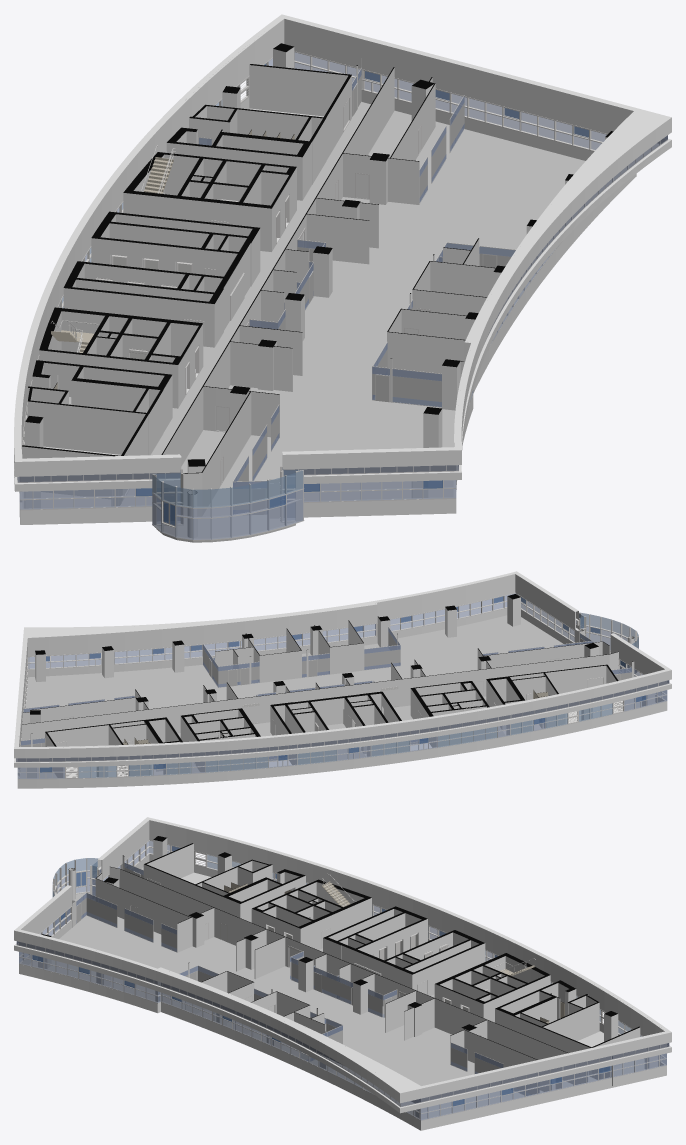
3 views of the same model, one above another, from view 1: azimuth 30°, elevation 25°; view 2: azimuth 150°, elevation 25°; view 3: azimuth 270°, elevation 25° (orthographic). The views are drawn at different scales.
Visible parts, largest first — view 1: A1-9F-Wall, A1-9F-Floor, A1-9F-In Dry Wall, A1-9F-Dry Wall, A1-9F-Glass1, A1-9F-Column, A1-9F-Frame, A1-9F-Glass Wall, A1-9F-Door, A1-9F-Glass2, A1-9F-Glass5, A1-9F-Elevator (+2 smaller); view 2: A1-9F-Wall, A1-9F-In Dry Wall, A1-9F-Floor, A1-9F-Dry Wall, A1-9F-Frame, A1-9F-Glass1, A1-9F-Glass2, A1-9F-Column, A1-9F-Glass Wall, A1-9F-Glass5, A1-9F-Door, A1-9F-Glass3 (+1 smaller); view 3: A1-9F-Wall, A1-9F-In Dry Wall, A1-9F-Dry Wall, A1-9F-Floor, A1-9F-Glass1, A1-9F-Glass Wall, A1-9F-Frame, A1-9F-Column, A1-9F-Glass5, A1-9F-Door, A1-9F-Glass2, A1-9F-Glass3 (+2 smaller).
Part boxes in pixels (x1,y1,x2,y2): A1-9F-Wall: (21, 58, 495, 516); A1-9F-Floor: (22, 102, 585, 542); A1-9F-In Dry Wall: (19, 17, 636, 524); A1-9F-Dry Wall: (14, 14, 671, 491); A1-9F-Glass1: (19, 52, 606, 539); A1-9F-Column: (24, 43, 613, 537); A1-9F-Frame: (17, 51, 667, 540); A1-9F-Glass Wall: (113, 68, 515, 518); A1-9F-Door: (118, 83, 497, 514); A1-9F-Glass2: (62, 100, 303, 507); A1-9F-Glass5: (17, 135, 667, 482); A1-9F-Elevator: (95, 195, 289, 394); A1-9F-Wall: (20, 616, 634, 777); A1-9F-In Dry Wall: (17, 573, 667, 788); A1-9F-Floor: (20, 615, 641, 777); A1-9F-Dry Wall: (14, 571, 671, 767); A1-9F-Frame: (16, 592, 669, 779); A1-9F-Glass1: (17, 593, 667, 778); A1-9F-Glass2: (78, 612, 638, 778); A1-9F-Column: (27, 594, 654, 777); A1-9F-Glass Wall: (21, 627, 631, 746); A1-9F-Glass5: (16, 621, 669, 761); A1-9F-Door: (32, 638, 620, 764); A1-9F-Glass3: (40, 596, 646, 772); A1-9F-Wall: (95, 843, 640, 1091); A1-9F-In Dry Wall: (19, 819, 666, 1130); A1-9F-Dry Wall: (14, 817, 671, 1113); A1-9F-Floor: (29, 867, 644, 1117); A1-9F-Glass1: (19, 841, 666, 1120); A1-9F-Glass Wall: (68, 862, 609, 1095); A1-9F-Frame: (17, 840, 669, 1120); A1-9F-Column: (38, 836, 657, 1119); A1-9F-Glass5: (16, 869, 669, 1106); A1-9F-Door: (76, 871, 601, 1079); A1-9F-Glass2: (52, 855, 631, 1034); A1-9F-Glass3: (32, 846, 610, 1106).
Bounding box in the file's own units: 71.25 × 5.28 × 71.71.
